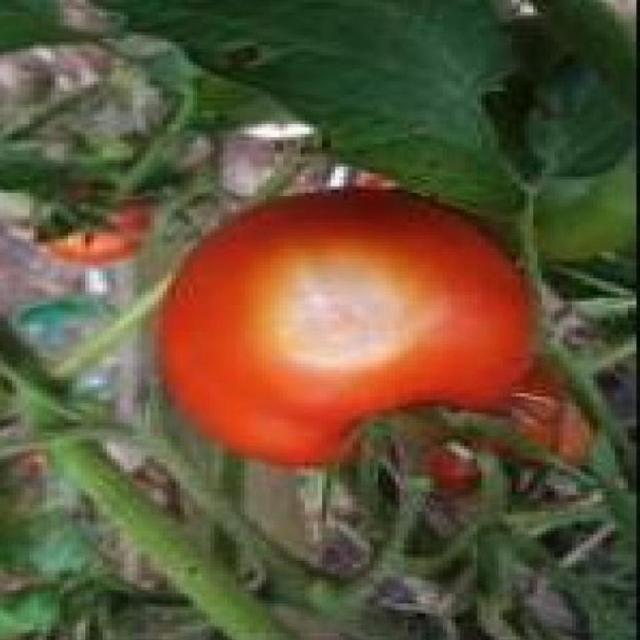Sunscald Fruit: (158, 160, 282, 264)
